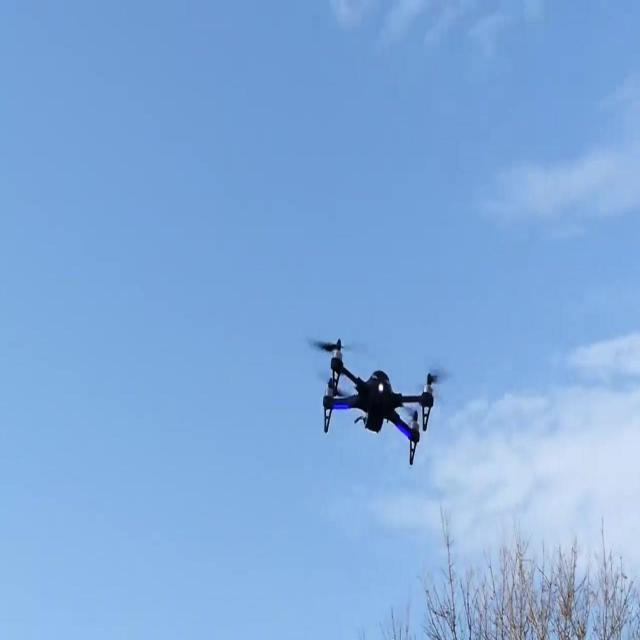UAV: (306, 337, 449, 466)
